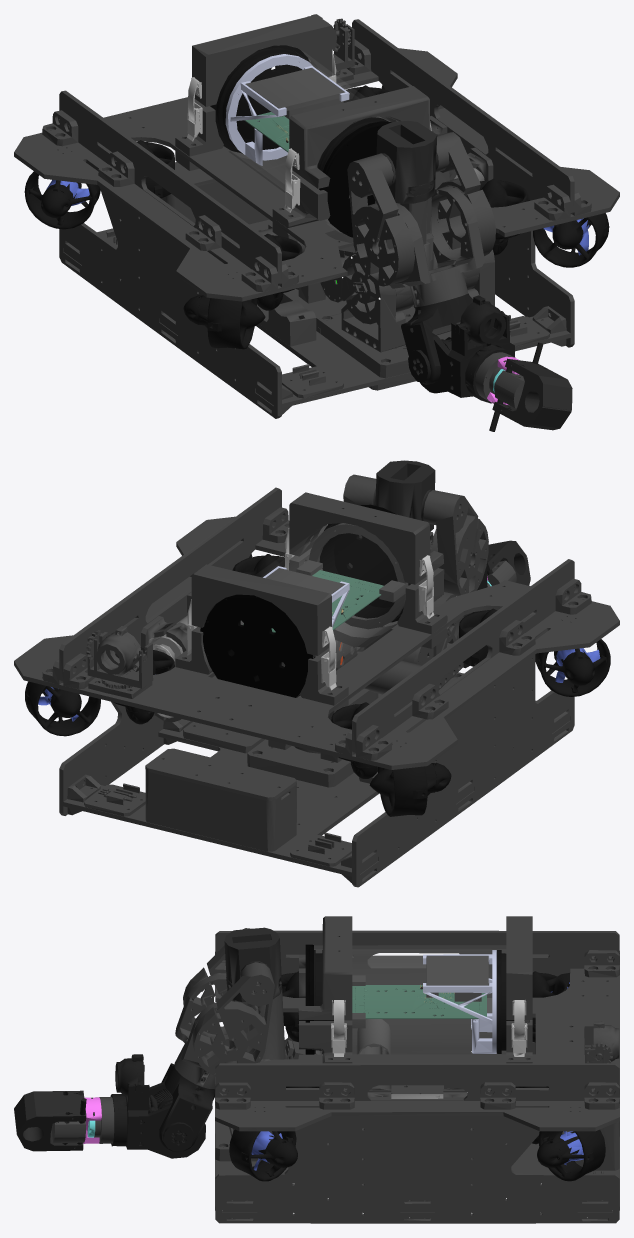
The model's file is robot.glb.
3 views of the same model, one above another, from view 1: azimuth 30°, elevation 25°; view 2: azimuth 150°, elevation 25°; view 3: azimuth 270°, elevation 25° (orthographic). The views are drawn at different scales.
Visible parts, largest first — view 1: Base-1; view 2: Base-1; view 3: Base-1.
Boxes of the visible parts, left/top/right/bottom form: Base-1: left=14, top=14, right=619, bottom=431; Base-1: left=14, top=460, right=619, bottom=887; Base-1: left=14, top=916, right=619, bottom=1223.
Bounding box in the file's own units: 0.6376 × 0.3491 × 0.8742.
